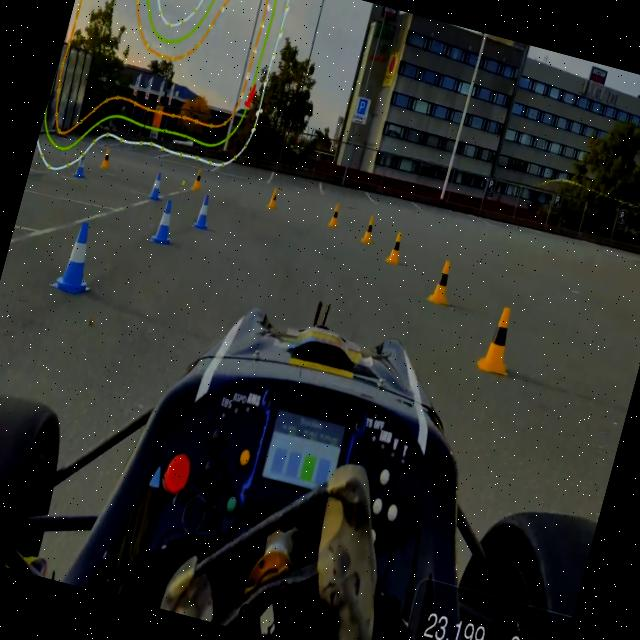blue_cone: (48, 216, 106, 298), (150, 197, 181, 247), (192, 192, 215, 230), (146, 170, 168, 202), (74, 152, 89, 178)
yellow_cone: (476, 303, 524, 377), (427, 258, 459, 307), (386, 232, 406, 266), (360, 214, 377, 245), (327, 202, 342, 228), (191, 165, 205, 189), (266, 186, 280, 210), (99, 147, 113, 170)
